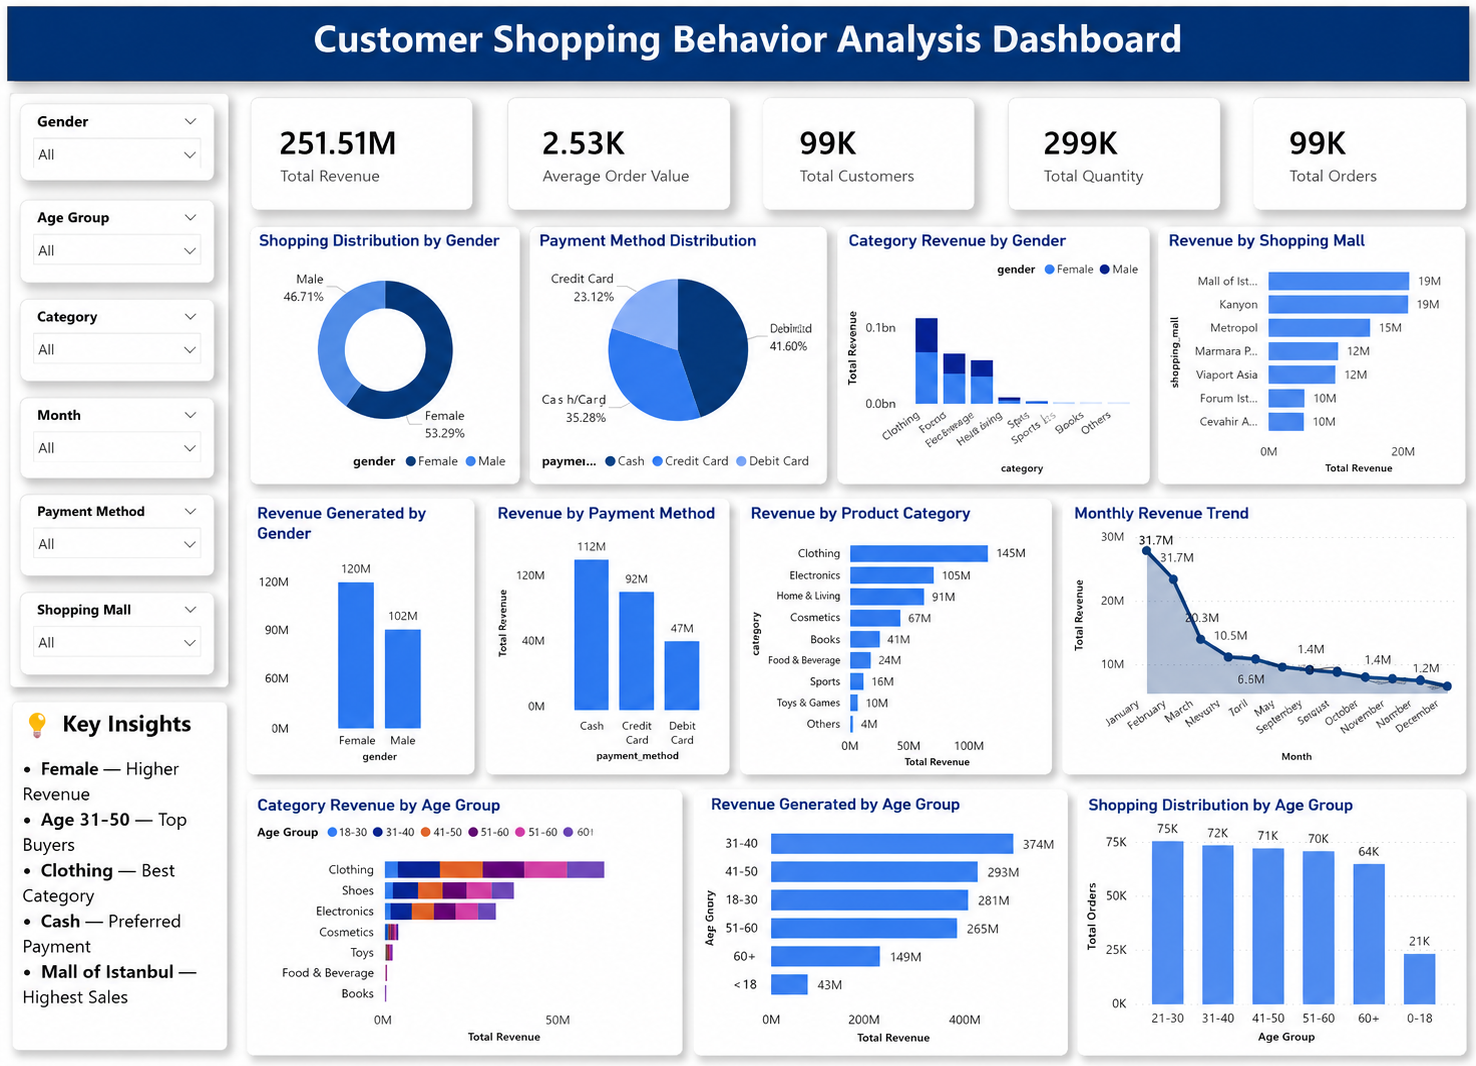

This screenshot's page, from the dashboard's own definition file:
{"tool":"powerbi","page":{"name":"Page 1","canvas":[1500,1075],"ordinal":0},"visuals":[{"type":"textbox","box":[16.7,0,1468.8,79.2],"z":0},{"type":"cardVisual","fields":{"Data":["Customer_Segmentation.Total Revenue"]},"box":[256.4,96.4,223.6,112.7],"z":1000},{"type":"cardVisual","fields":{"Data":["Customer_Segmentation.Total Quantity"]},"box":[1022.3,96.4,210.9,112.7],"z":2000},{"type":"cardVisual","fields":{"Data":["Customer_Segmentation.Total Orders"]},"box":[1270.9,96.4,214.5,112.7],"z":3000},{"type":"cardVisual","fields":{"Data":["Customer_Segmentation.Total Customers"]},"box":[777.3,96.4,207.3,112.7],"z":4000},{"type":"cardVisual","fields":{"Data":["Customer_Segmentation.Average Order Value"]},"box":[517.7,96.4,221.8,112.7],"z":5000},{"type":"textbox","box":[16.7,95.8,222.9,591.7],"z":6000},{"type":"donutChart","title":"Shopping Distribution by Gender","fields":{"Category":["Customer_Segmentation.gender"],"Y":["Customer_Segmentation.Total Orders"]},"box":[256.6,224.5,271.7,254.7],"z":7000},{"type":"clusteredColumnChart","title":"Revenue Generated by Gender","fields":{"Category":["Customer_Segmentation.gender"],"Y":["Customer_Segmentation.Total Revenue"]},"box":[256.6,496.2,224.5,273.6],"z":8000},{"type":"clusteredColumnChart","title":"Shopping Distribution by Age Group","fields":{"Category":["Customer_Segmentation.Age Group"],"Y":["Customer_Segmentation.Total Orders"]},"box":[1126.4,792.5,358.5,269.8],"z":9000},{"type":"clusteredBarChart","title":"Revenue Generated by Age Group","fields":{"Category":["Customer_Segmentation.Age Group"],"Y":["Customer_Segmentation.Total Revenue"]},"box":[717,792.5,392.5,271.7],"z":10000},{"type":"columnChart","title":"Category Revenue by Gender","fields":{"Category":["Customer_Segmentation.category"],"Series":["Customer_Segmentation.gender"],"Y":["Customer_Segmentation.Total Revenue"]},"box":[850.9,224.5,311.3,254.7],"z":11000},{"type":"barChart","title":"Category Revenue by Age Group","fields":{"Category":["Customer_Segmentation.category"],"Series":["Customer_Segmentation.Age Group"],"Y":["Customer_Segmentation.Total Revenue"]},"box":[256.6,790.6,447.2,271.7],"z":12000},{"type":"pieChart","title":"Payment Method Distribution","fields":{"Category":["Customer_Segmentation.payment_method"],"Y":["Customer_Segmentation.Total Orders"]},"box":[539.6,224.5,296.2,254.7],"z":13000},{"type":"clusteredColumnChart","title":"Revenue by Payment Method","fields":{"Category":["Customer_Segmentation.payment_method"],"Y":["Customer_Segmentation.Total Revenue"]},"box":[498.1,496.2,241.5,273.6],"z":14000},{"type":"clusteredBarChart","title":"Revenue by Shopping Mall","fields":{"Category":["Customer_Segmentation.shopping_mall"],"Y":["Customer_Segmentation.Total Revenue"]},"box":[1175.5,224.5,309.4,254.7],"z":15000},{"type":"clusteredBarChart","title":"Revenue by Product Category","fields":{"Category":["Customer_Segmentation.category"],"Y":["Customer_Segmentation.Total Revenue"]},"box":[750.9,496.2,311.3,273.6],"z":16000},{"type":"lineChart","title":"Monthly Revenue Trend","fields":{"Category":["Customer_Segmentation.Month"],"Y":["Customer_Segmentation.Total Revenue"]},"box":[1079.2,496.2,405.7,273.6],"z":17000},{"type":"slicer","fields":{"Values":["Customer_Segmentation.gender"]},"box":[31.2,112.5,189.6,79.2],"z":18000},{"type":"slicer","fields":{"Values":["Customer_Segmentation.Age Group"]},"box":[31.2,208.3,189.6,79.2],"z":19000},{"type":"slicer","fields":{"Values":["Customer_Segmentation.payment_method"]},"box":[31.2,495.8,189.6,79.2],"z":20000},{"type":"slicer","fields":{"Values":["Customer_Segmentation.shopping_mall"]},"box":[31.2,591.7,189.6,81.2],"z":21000},{"type":"slicer","fields":{"Values":["Customer_Segmentation.category"]},"box":[31.2,304.2,189.6,79.2],"z":22000},{"type":"slicer","fields":{"Values":["Customer_Segmentation.Month"]},"box":[31.2,400,189.6,79.2],"z":23000},{"type":"textbox","box":[17,703.8,222.6,345.3],"z":25000}]}

Visuals, with their boxes in screenshot pixels (x1, y1, x2, y2), scaled from the page's 1500x1075 canvas onto the 1476x1066 screenshot:
textbox: region(16, 0, 1462, 79)
cardVisual - Customer_Segmentation.Total Revenue: region(252, 96, 472, 207)
cardVisual - Customer_Segmentation.Total Quantity: region(1006, 96, 1213, 207)
cardVisual - Customer_Segmentation.Total Orders: region(1251, 96, 1462, 207)
cardVisual - Customer_Segmentation.Total Customers: region(765, 96, 969, 207)
cardVisual - Customer_Segmentation.Average Order Value: region(509, 96, 728, 207)
textbox: region(16, 95, 236, 682)
"Shopping Distribution by Gender" donutChart: region(252, 223, 520, 475)
"Revenue Generated by Gender" clusteredColumnChart: region(252, 492, 473, 763)
"Shopping Distribution by Age Group" clusteredColumnChart: region(1108, 786, 1461, 1053)
"Revenue Generated by Age Group" clusteredBarChart: region(706, 786, 1092, 1055)
"Category Revenue by Gender" columnChart: region(837, 223, 1144, 475)
"Category Revenue by Age Group" barChart: region(252, 784, 693, 1053)
"Payment Method Distribution" pieChart: region(531, 223, 822, 475)
"Revenue by Payment Method" clusteredColumnChart: region(490, 492, 728, 763)
"Revenue by Shopping Mall" clusteredBarChart: region(1157, 223, 1461, 475)
"Revenue by Product Category" clusteredBarChart: region(739, 492, 1045, 763)
"Monthly Revenue Trend" lineChart: region(1062, 492, 1461, 763)
slicer - Customer_Segmentation.gender: region(31, 112, 217, 190)
slicer - Customer_Segmentation.Age Group: region(31, 207, 217, 285)
slicer - Customer_Segmentation.payment_method: region(31, 492, 217, 570)
slicer - Customer_Segmentation.shopping_mall: region(31, 587, 217, 667)
slicer - Customer_Segmentation.category: region(31, 302, 217, 380)
slicer - Customer_Segmentation.Month: region(31, 397, 217, 475)
textbox: region(17, 698, 236, 1040)
